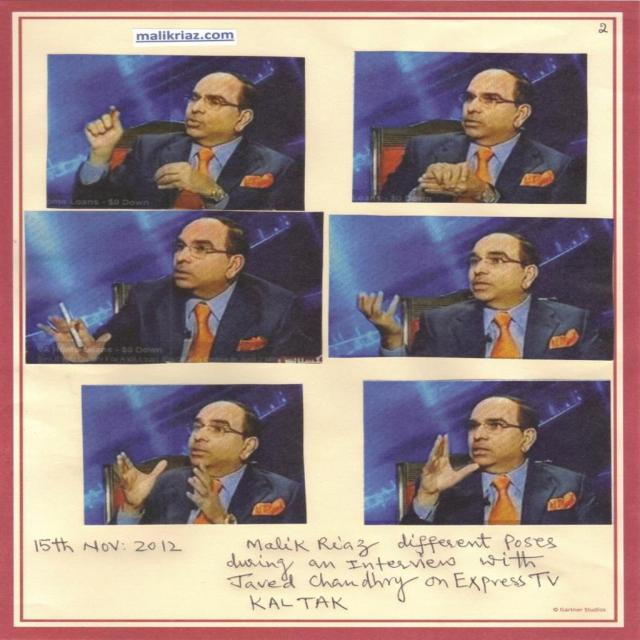nomask: (172, 219, 232, 289), (460, 64, 518, 136), (188, 395, 246, 467), (185, 71, 241, 139), (470, 392, 516, 468), (469, 233, 519, 301)
